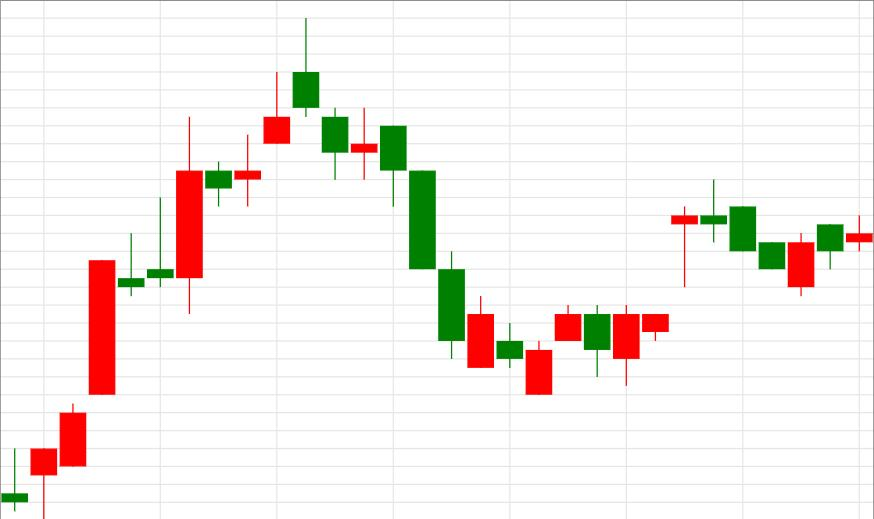shooting_star_fall: (2, 18, 319, 518)
